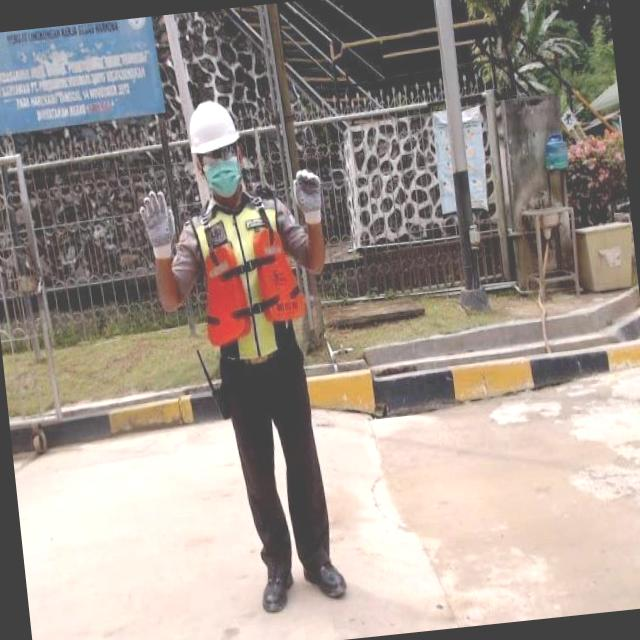vest: (182, 187, 314, 372)
